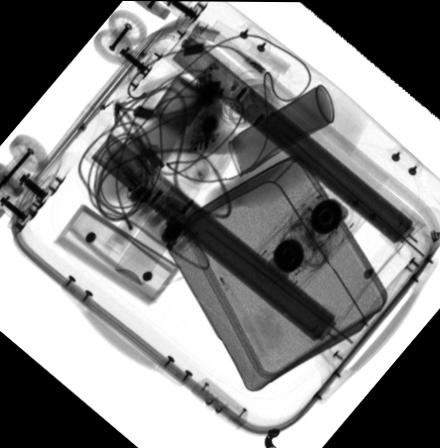Sprayer: (114, 177, 199, 284)
